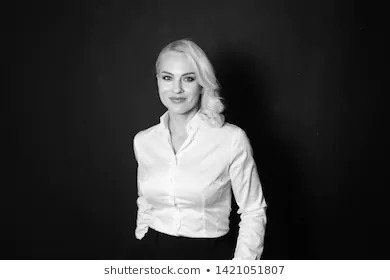F_shirt: (132, 110, 263, 260)
